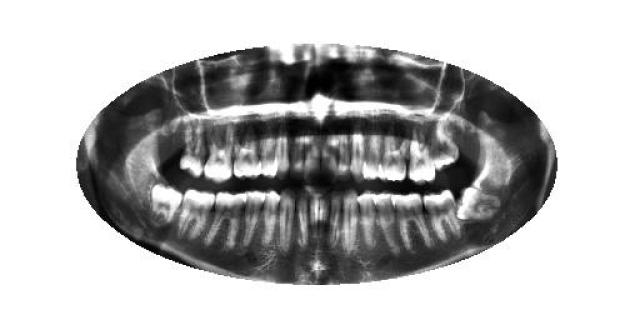Restorations: (458, 186, 500, 222)
